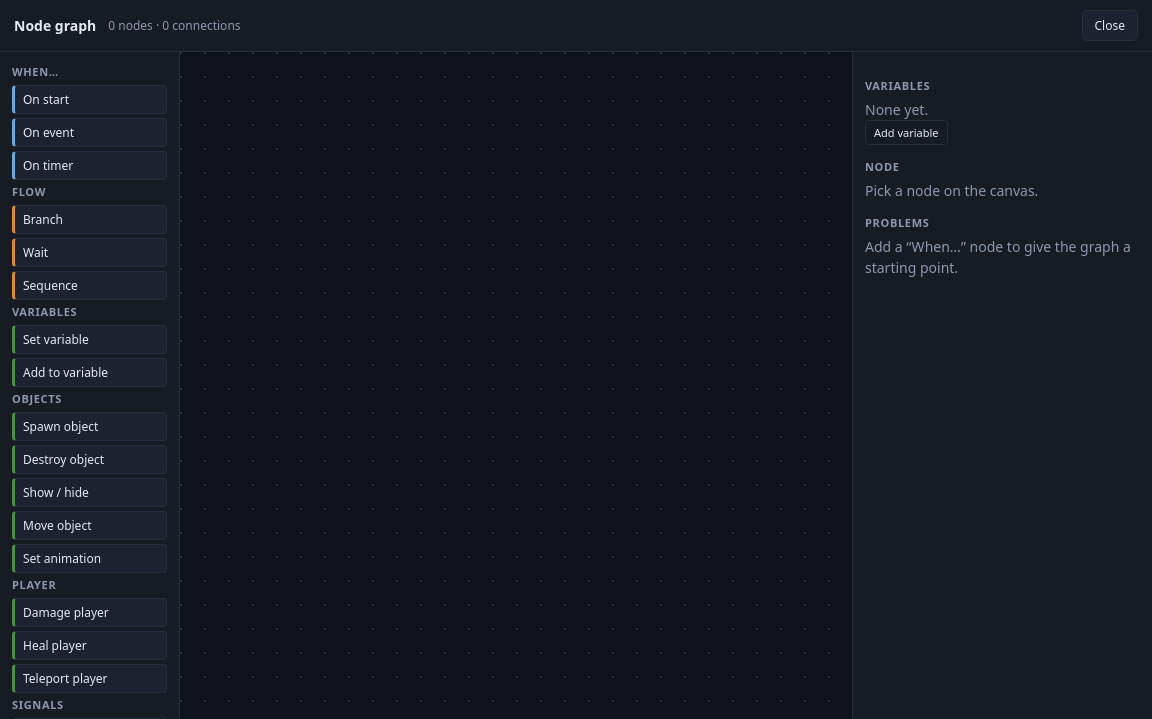
GraphEditor › gives a branch both of its ports and nothing else
Click the button "Branch". click: (90, 220)
box: [12,205,167,234]
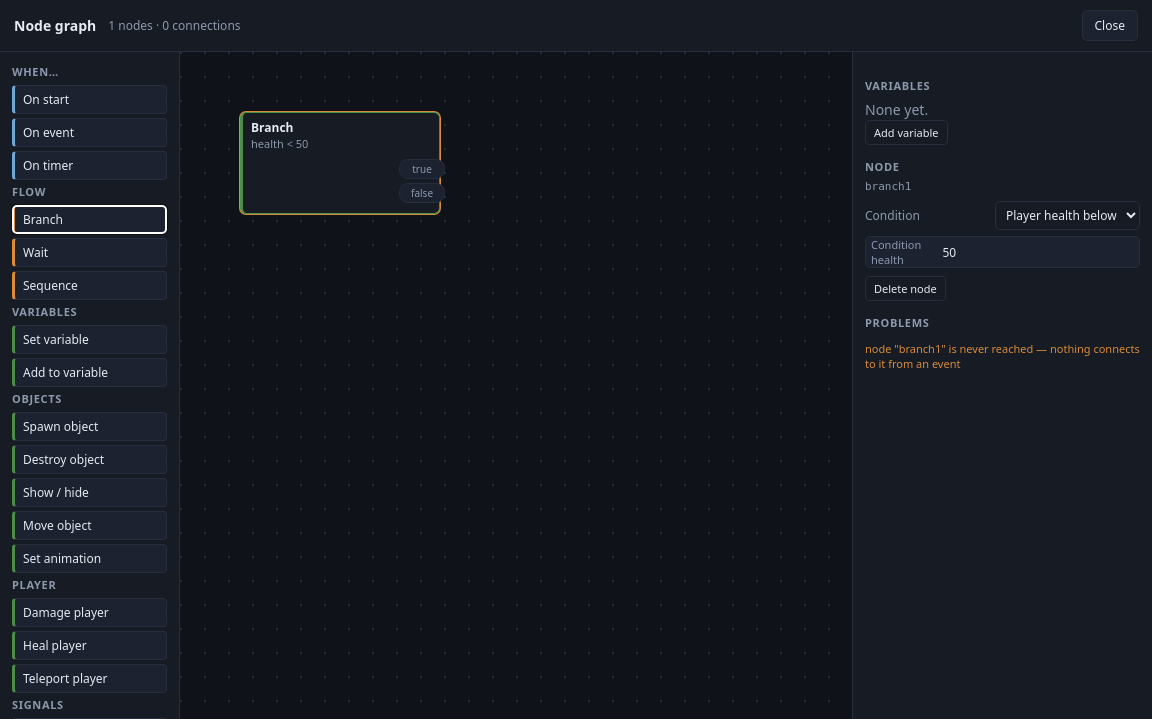
Now the button with aria-label "branch1 output true" is shown, box [399,159,445,179]
Now the button with aria-label "branch1 output false" is shown, box [399,183,445,203]
